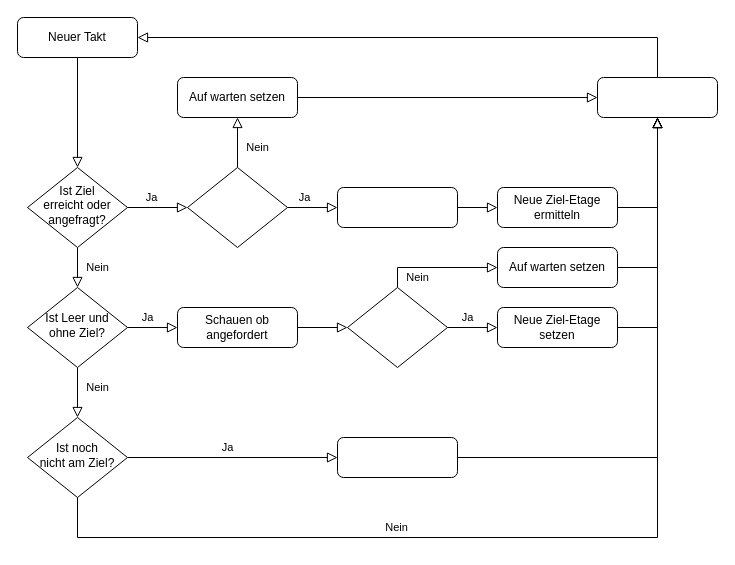
Image size: 735x565. Some labels were removed from this diagram. Here are the shapes that lost their labels. From the top down, the centre of each, then its label:
pixel 657 97: Aktueller Stand loggen
pixel 237 207: Zustand: Warten?
pixel 397 207: Passagiere ein- und aussteigen lassen
pixel 397 327: Angefordert?
pixel 397 457: Position wie in Zustand angegeben verändern
